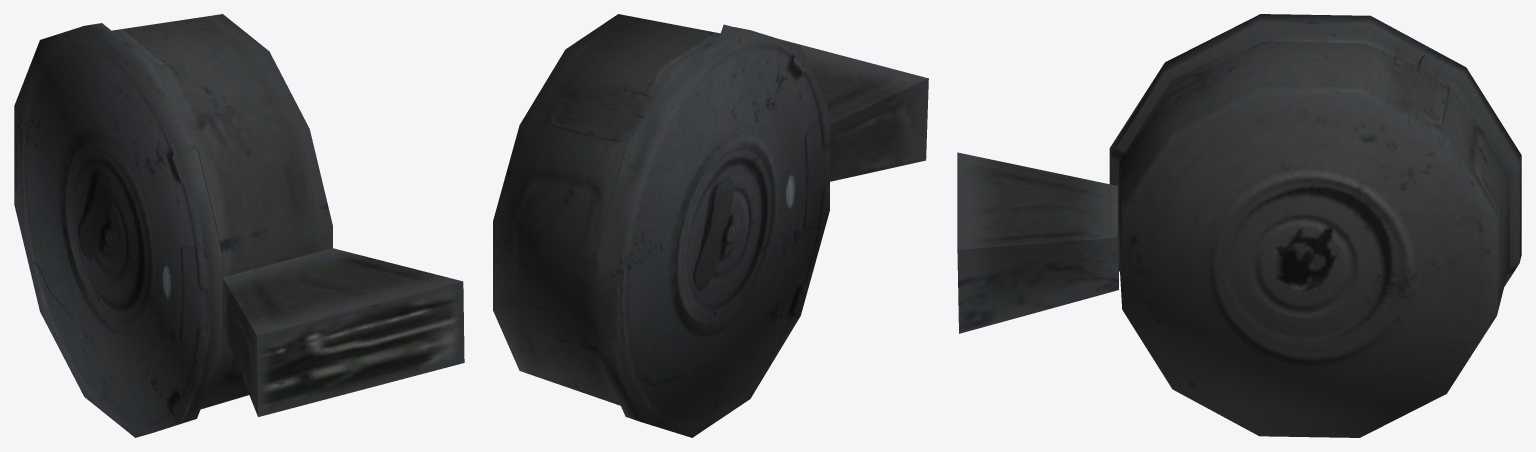
File: weapon_sa80_clip_LOD0.obj
The picture shows the model from 3 angles, left to right: view 1: azimuth 30°, elevation 25°; view 2: azimuth 150°, elevation 25°; view 3: azimuth 270°, elevation 25°; orthographic projection.
Parts seen in each view (by area): view 1: mtl_weapon_drum_magazine; view 2: mtl_weapon_drum_magazine; view 3: mtl_weapon_drum_magazine.
Boxes of the visible parts, box(x1,y1,x2,y2) form: mtl_weapon_drum_magazine: box(14, 14, 464, 437); mtl_weapon_drum_magazine: box(493, 14, 928, 437); mtl_weapon_drum_magazine: box(957, 14, 1521, 437).
Size of the model in its own units: 5.75 by 9.78 by 13.38.
